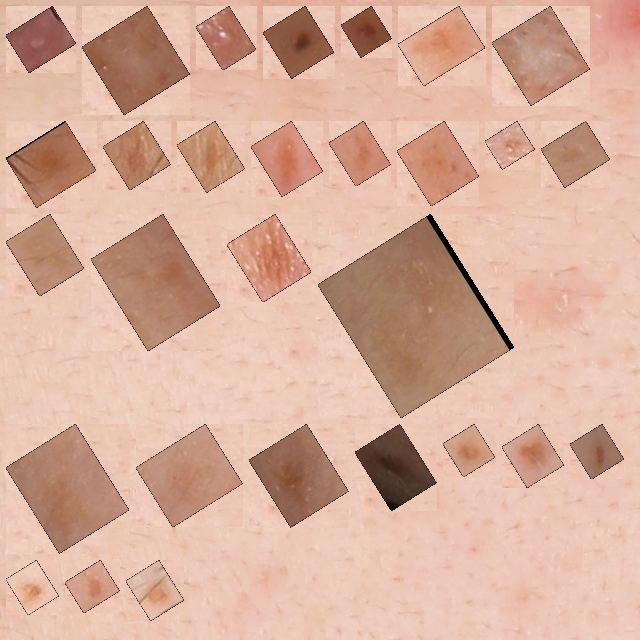hypertrophic_scar: (93, 17, 179, 104), (503, 17, 579, 94)
melasma: (329, 225, 503, 407), (102, 225, 209, 340), (17, 435, 118, 542), (147, 435, 232, 516), (260, 435, 338, 516), (17, 132, 85, 196), (238, 225, 300, 291), (408, 132, 468, 195), (409, 17, 474, 75), (17, 225, 73, 285), (262, 132, 312, 185), (188, 132, 234, 181), (114, 132, 160, 179), (552, 132, 599, 176), (340, 132, 380, 175), (496, 132, 524, 158)
nevus: (366, 435, 425, 500), (274, 17, 323, 67), (513, 435, 553, 476), (137, 571, 173, 610), (581, 435, 613, 468), (17, 571, 48, 604), (76, 571, 109, 602), (454, 435, 484, 466), (352, 17, 381, 46)
pustule: (17, 17, 65, 61), (207, 17, 245, 59)
